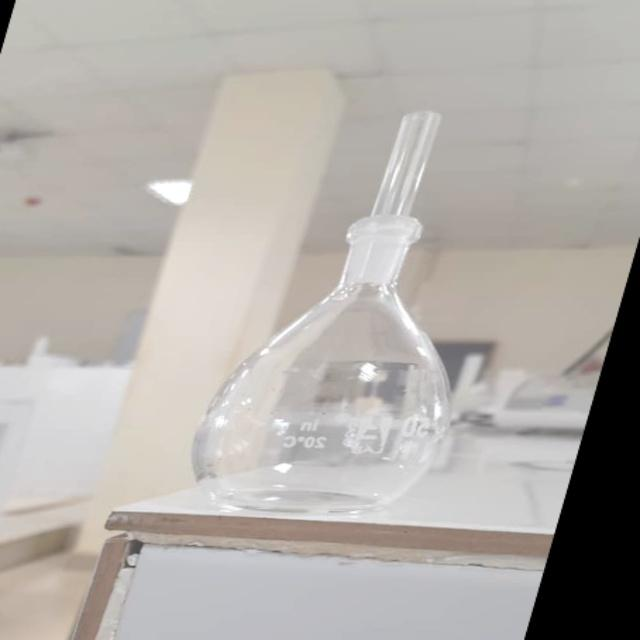Density Bottle for Liquids: (153, 96, 577, 524)
